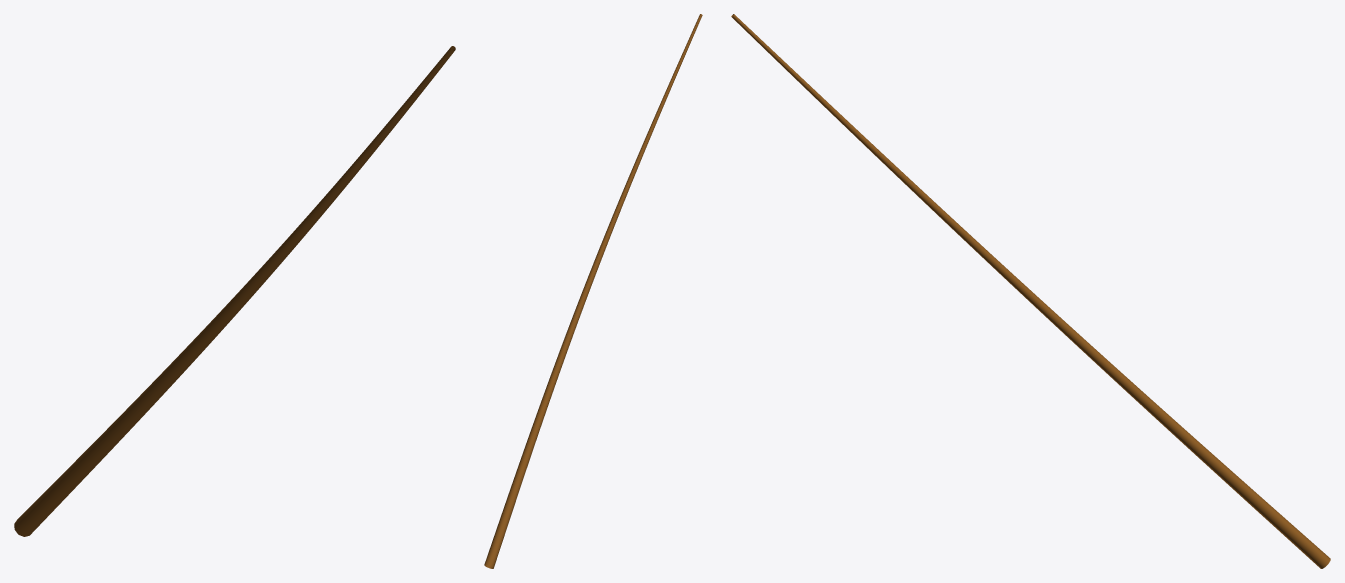
File: SM_Amber_Stem.obj
The picture shows the model from 3 angles, left to right: view 1: azimuth 30°, elevation 25°; view 2: azimuth 150°, elevation 25°; view 3: azimuth 270°, elevation 25°; orthographic projection. The views are drawn at different scales.
Parts seen in each view (by area): view 1: Stem; view 2: Stem; view 3: Stem.
Boxes of the visible parts, bbox=[...] form: Stem: bbox=[14, 46, 455, 536]; Stem: bbox=[484, 14, 702, 568]; Stem: bbox=[731, 14, 1330, 568].
Bounding box in the file's own units: 0.2 × 4.75 × 4.65.
